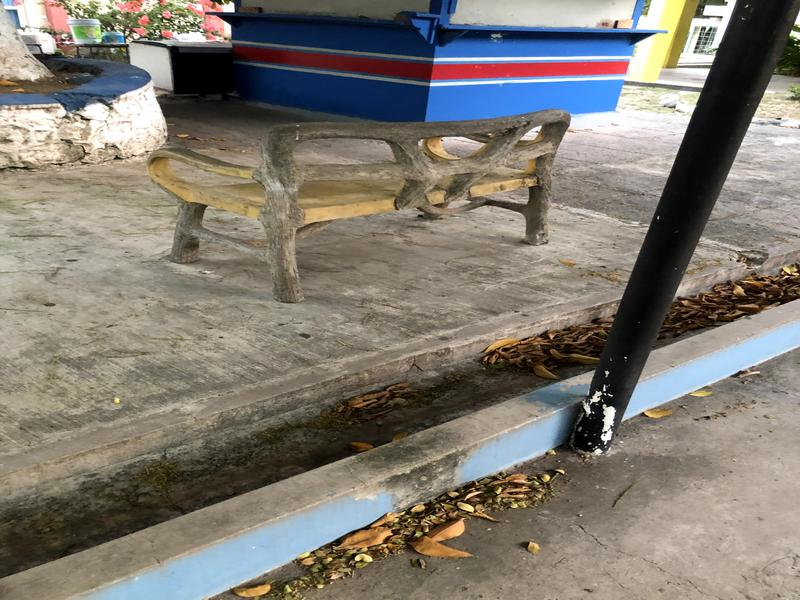18.0050864_-76.7496363_bench: (126, 105, 601, 305)
